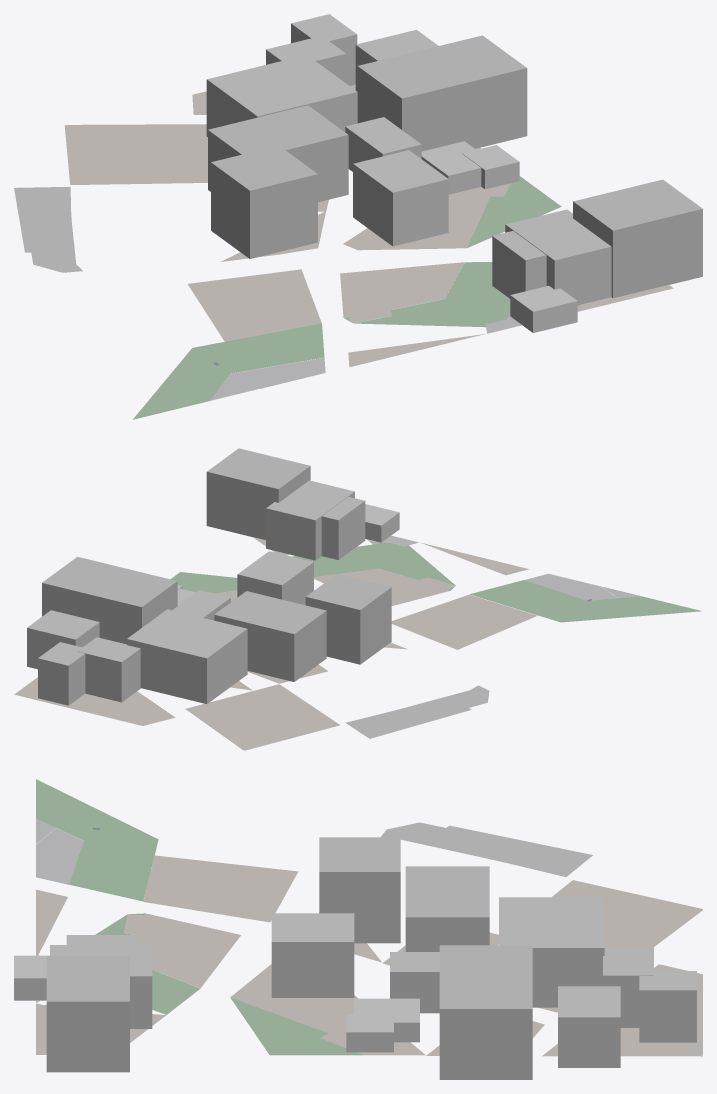
File: 102_93_mid.glb
The picture shows the model from 3 angles, top to bottom: view 1: azimuth 30°, elevation 25°; view 2: azimuth 150°, elevation 25°; view 3: azimuth 270°, elevation 25°; orthographic projection. The views are drawn at different scales.
Size of the model in its own units: 530 by 60.25 by 517.
